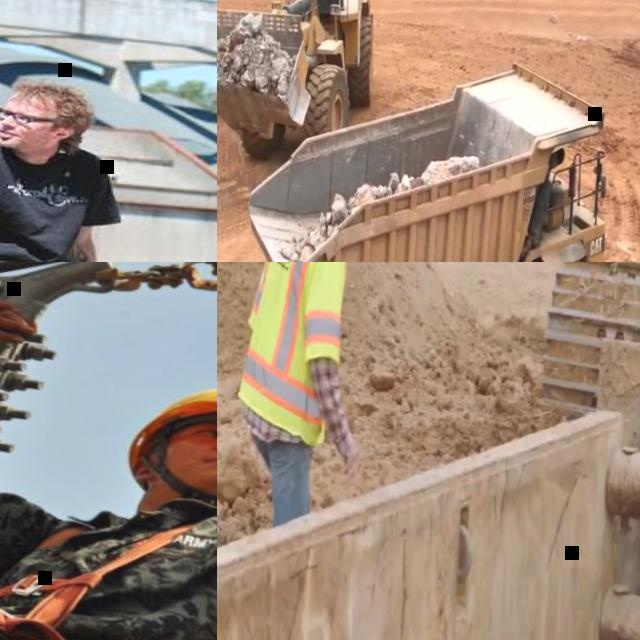NO-Hardhat: (8, 80, 91, 116)
NO-Mask: (140, 437, 217, 489), (0, 122, 56, 150)
NO-Safety Vest: (0, 492, 217, 640), (0, 132, 104, 262)
Person: (0, 268, 217, 640), (0, 69, 217, 262), (229, 262, 379, 525), (125, 376, 217, 499)
Safety Vest: (235, 262, 353, 448)
machinery: (228, 37, 620, 262), (217, 0, 382, 181), (537, 262, 640, 433)
